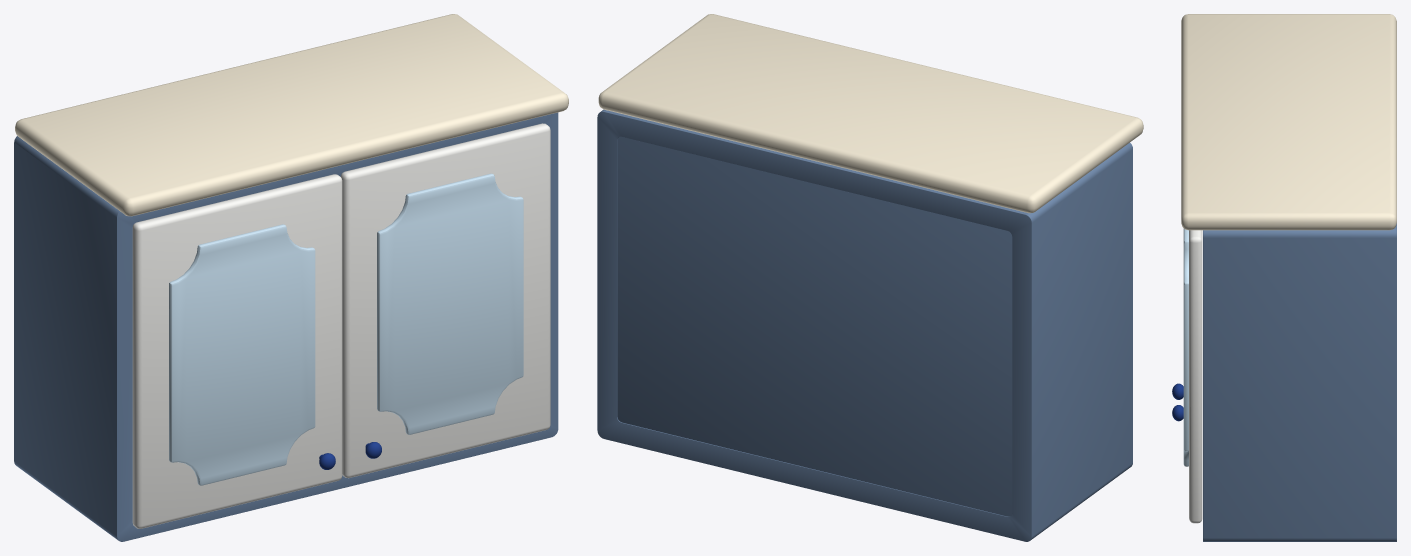
The model's file is armario_parede_2portas_classica_azul.glb.
3 renders of one model, left to right at view 1: azimuth 30°, elevation 25°; view 2: azimuth 150°, elevation 25°; view 3: azimuth 270°, elevation 25°, orthographic. The views are drawn at different scales.
Parts seen in each view (by area): view 1: armario_parede_2portas_classica_azul, porta_1, porta_2; view 2: armario_parede_2portas_classica_azul; view 3: armario_parede_2portas_classica_azul, porta_2.
Boxes of the visible parts, x1=… form: armario_parede_2portas_classica_azul: x1=14, y1=14, x2=568, y2=541; porta_1: x1=132, y1=174, x2=342, y2=528; porta_2: x1=340, y1=123, x2=550, y2=478; armario_parede_2portas_classica_azul: x1=597, y1=14, x2=1143, y2=541; armario_parede_2portas_classica_azul: x1=1181, y1=14, x2=1396, y2=541; porta_2: x1=1172, y1=228, x2=1202, y2=523.
Bounding box in the file's own units: 0.798 × 0.6 × 0.3711.
1 material, 1 textured.
